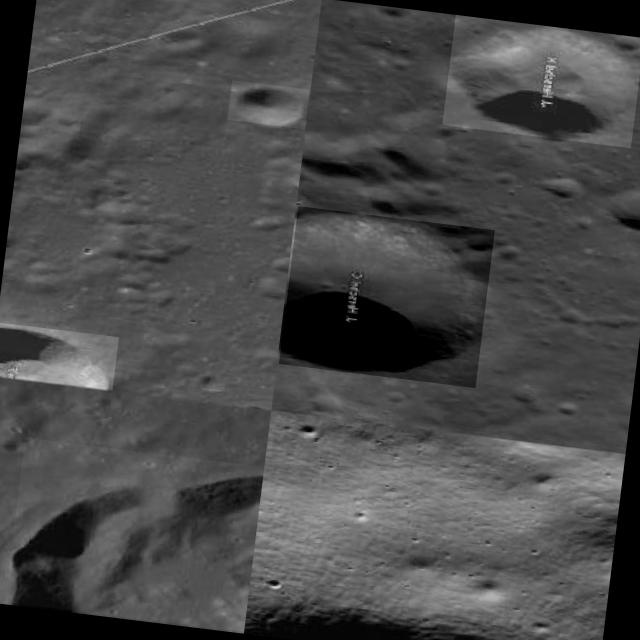crater: (5, 438, 265, 632), (280, 205, 496, 388), (443, 14, 640, 147), (0, 322, 120, 389), (228, 80, 310, 129)
